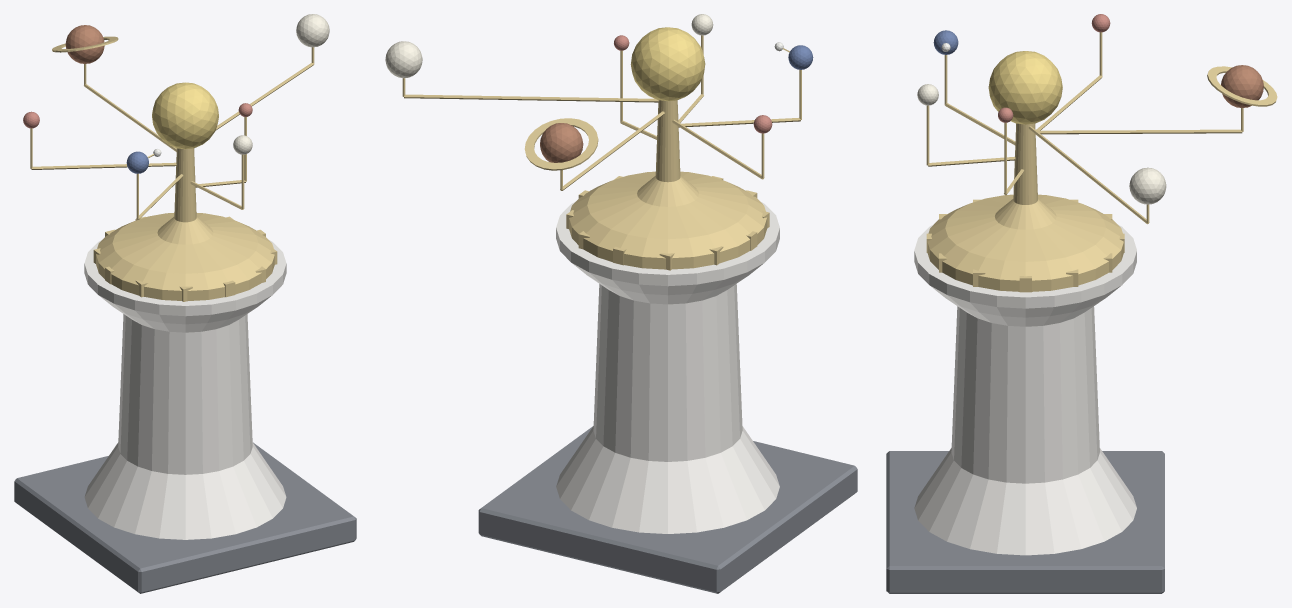
File: orrery.glb
The picture shows the model from 3 angles, left to right: view 1: azimuth 30°, elevation 25°; view 2: azimuth 150°, elevation 25°; view 3: azimuth 270°, elevation 25°; orthographic projection. The views are drawn at different scales.
Visible parts, largest first — view 1: orrery_marble_w, orrery_marble_k, orrery_brass, orrery_gold, orrery_cream, orrery_leather; view 2: orrery_marble_w, orrery_brass, orrery_marble_k, orrery_gold, orrery_cream, orrery_leather; view 3: orrery_marble_w, orrery_brass, orrery_marble_k, orrery_gold, orrery_cream, orrery_leather.
Boxes of the visible parts, box(x1,y1,x2,y2) form: orrery_marble_w: box(84, 240, 286, 539); orrery_marble_k: box(14, 442, 356, 593); orrery_brass: box(30, 36, 314, 301); orrery_gold: box(152, 82, 218, 149); orrery_cream: box(233, 14, 329, 154); orrery_leather: box(65, 25, 104, 63); orrery_marble_w: box(556, 201, 779, 533); orrery_brass: box(402, 35, 801, 270); orrery_marble_k: box(478, 426, 857, 593); orrery_gold: box(630, 27, 705, 101); orrery_cream: box(385, 14, 713, 78); orrery_leather: box(540, 123, 583, 162); orrery_marble_w: box(914, 224, 1136, 555); orrery_brass: box(926, 32, 1277, 292); orrery_marble_k: box(886, 451, 1164, 593); orrery_gold: box(988, 51, 1062, 124); orrery_cream: box(917, 84, 1166, 204); orrery_leather: box(1221, 65, 1263, 107).
Bounding box in the file's own units: 1.34 × 1.72 × 1.26.
